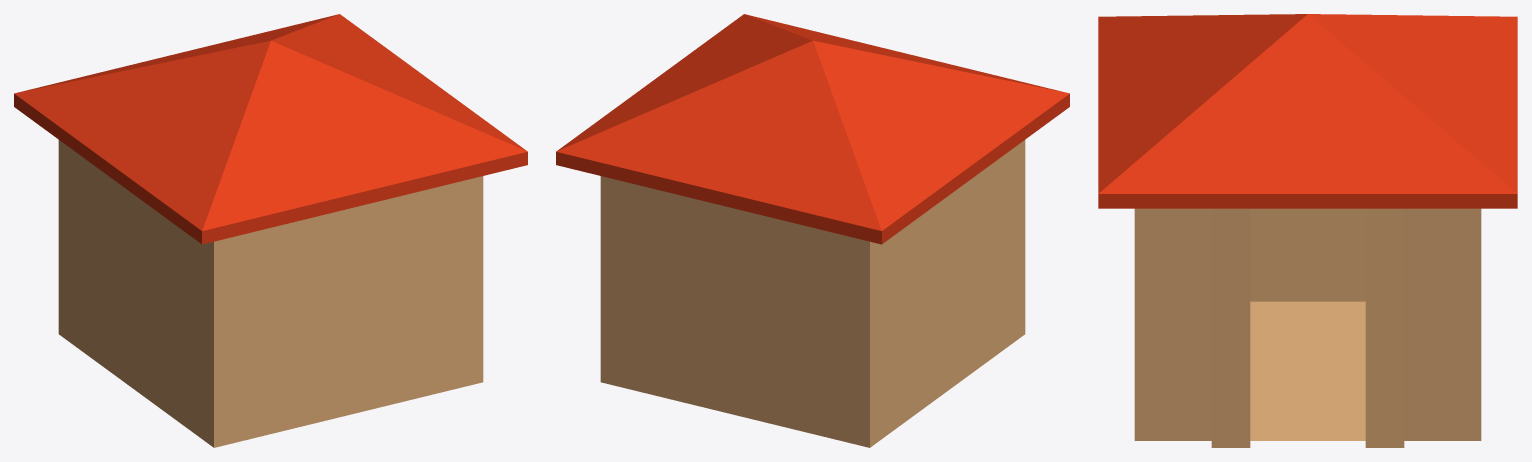
The model's file is npcHut.fbx.
The picture shows the model from 3 angles, left to right: view 1: azimuth 30°, elevation 25°; view 2: azimuth 150°, elevation 25°; view 3: azimuth 270°, elevation 25°; orthographic projection. The views are drawn at different scales.
Visible parts, largest first — view 1: Grid, Plane; view 2: Grid, Plane; view 3: Grid, Plane.
Boxes of the visible parts, x1,y1,x2,y2 form: Grid: (58,140,483,447); Plane: (14,14,527,244); Grid: (600,140,1025,447); Plane: (556,14,1069,244); Grid: (1134,208,1481,447); Plane: (1098,14,1517,208).
Bounding box in the file's own units: 1210 × 1127 × 1210.
